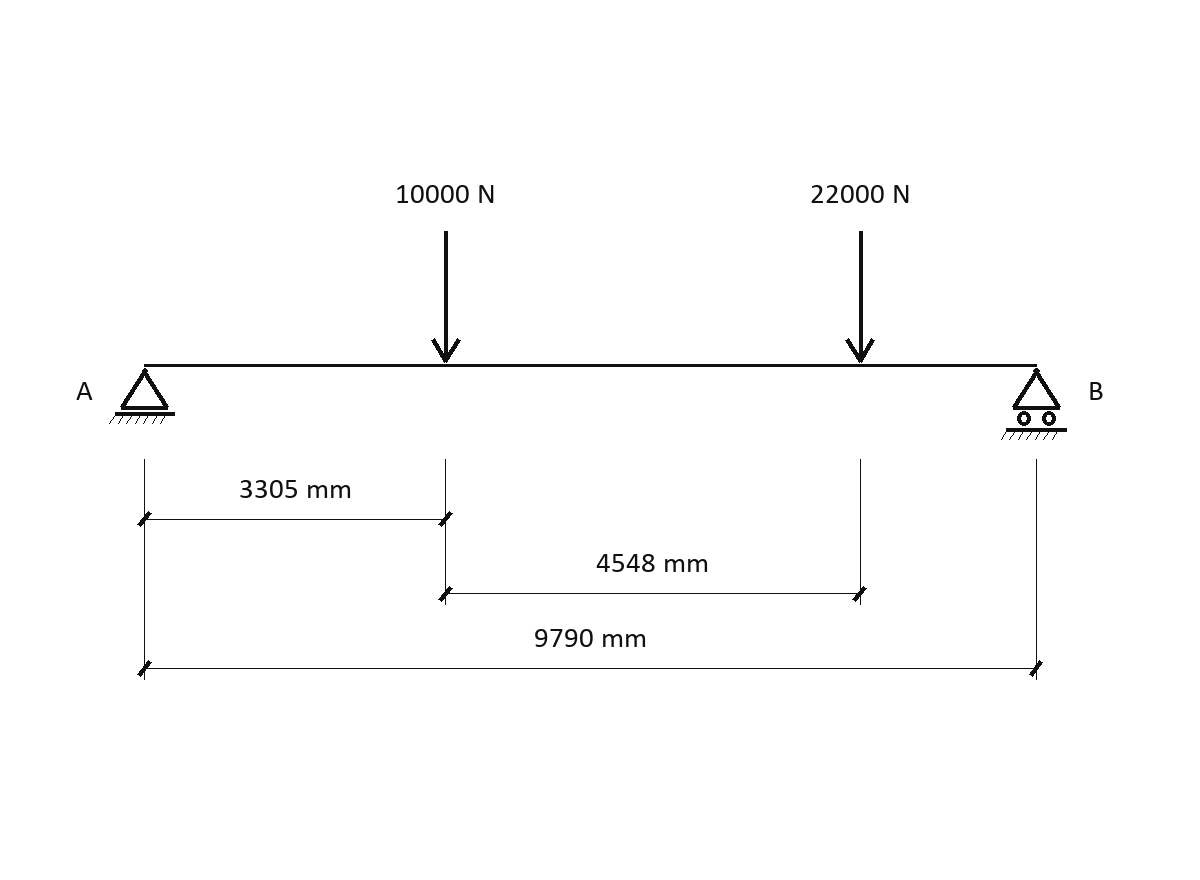pin_support: (109, 368, 175, 424)
point_load: (431, 231, 461, 363), (845, 231, 875, 363)
roller_support: (1001, 368, 1067, 440)
